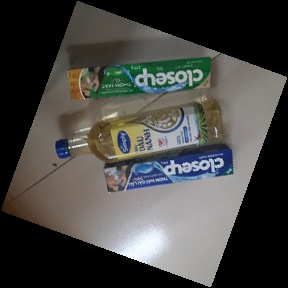CloseUp Tuyet: (102, 143, 234, 197)
CloseUp Xanh: (65, 56, 215, 102)
Simply: (52, 98, 226, 159)
